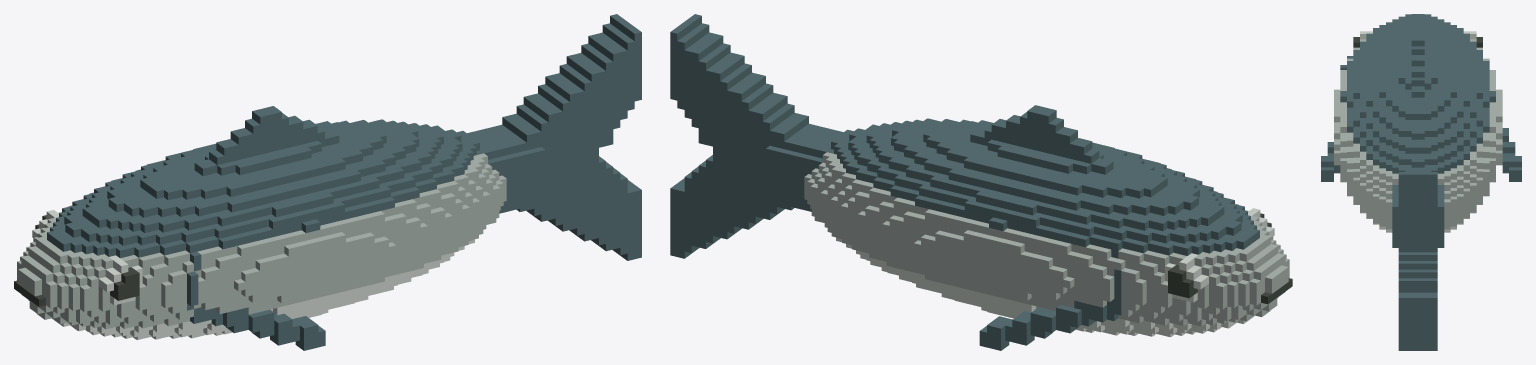
Rendered from LIFE-094.glb.
3 renders of one model, left to right at view 1: azimuth 30°, elevation 25°; view 2: azimuth 150°, elevation 25°; view 3: azimuth 270°, elevation 25°, orthographic. The views are drawn at different scales.
Visible parts, largest first — view 1: 鱼类食材视觉母版; view 2: 鱼类食材视觉母版; view 3: 鱼类食材视觉母版.
Part boxes in pixels (left/top/right/bottom): 鱼类食材视觉母版: left=14, top=14, right=641, bottom=350; 鱼类食材视觉母版: left=670, top=14, right=1292, bottom=350; 鱼类食材视觉母版: left=1321, top=14, right=1521, bottom=350.
Size of the model in its own units: 0.42 by 0.15 by 0.155.
Materials: 4 (4 with a texture image).
